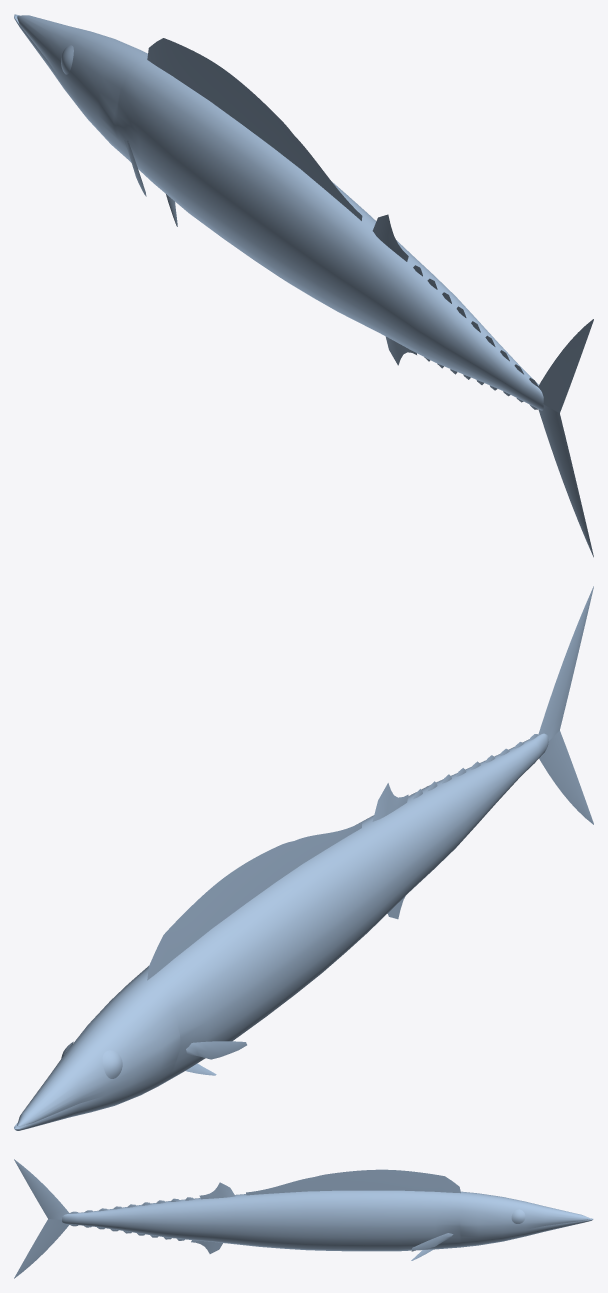
Rendered from wahoo_game.glb.
3 renders of one model, top to bottom at view 1: azimuth 30°, elevation 25°; view 2: azimuth 150°, elevation 25°; view 3: azimuth 270°, elevation 25°, orthographic. The views are drawn at different scales.
Visible parts, largest first — view 1: wahoo_game; view 2: wahoo_game; view 3: wahoo_game.
Part boxes in pixels (x1,y1,x2,y2): wahoo_game: [14, 14, 593, 557]; wahoo_game: [14, 586, 593, 1130]; wahoo_game: [14, 1159, 593, 1278].
Bounding box in the file's own units: 0.1807 × 0.4091 × 1.8.
